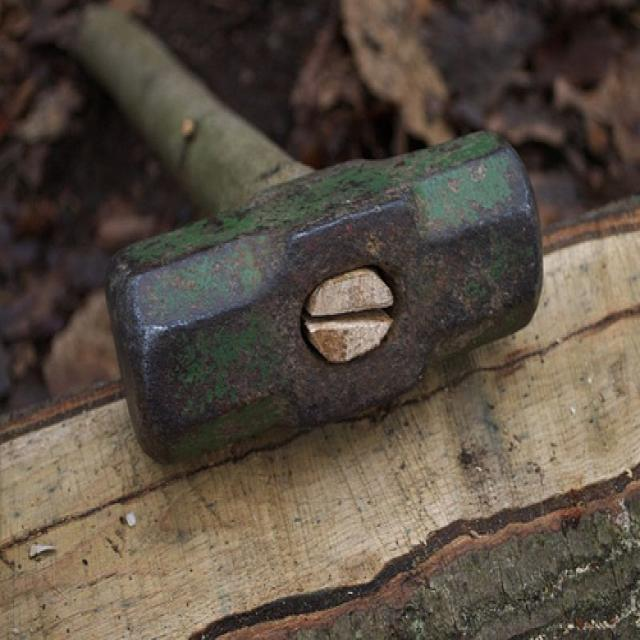hammer: (22, 0, 550, 481)
